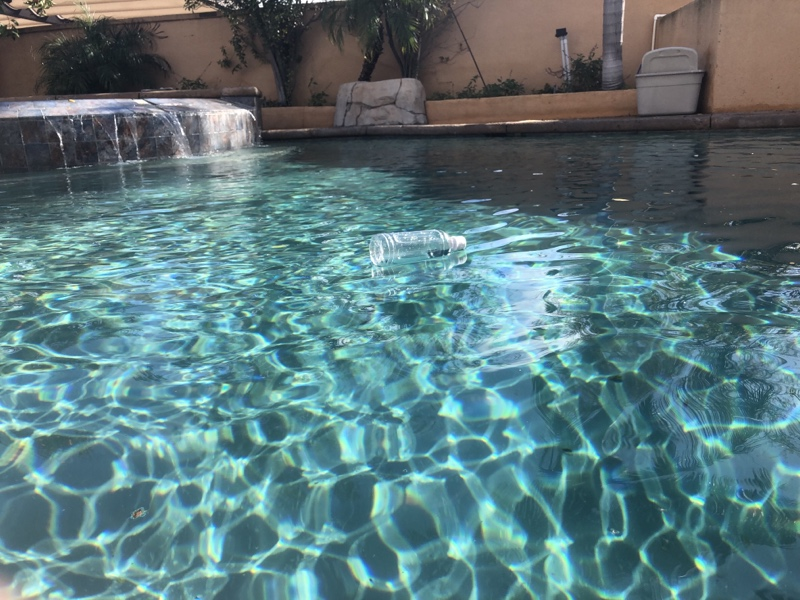Plastic Bottle: (363, 227, 469, 267)
